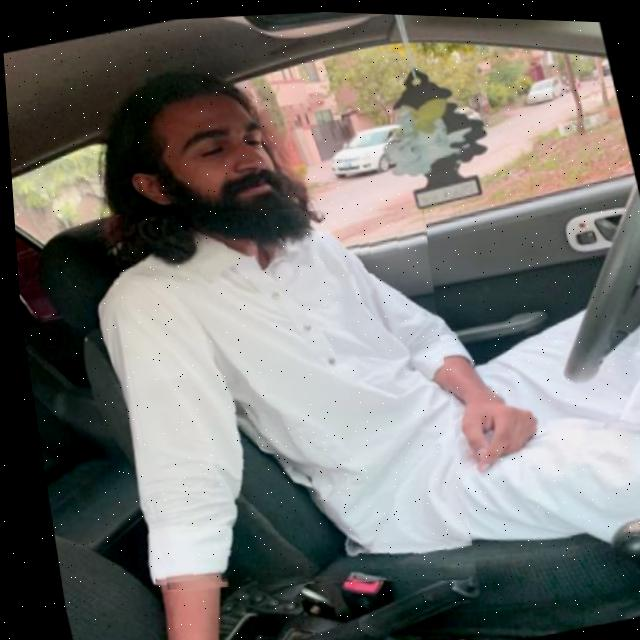no-seatbelt: (97, 189, 469, 599)
